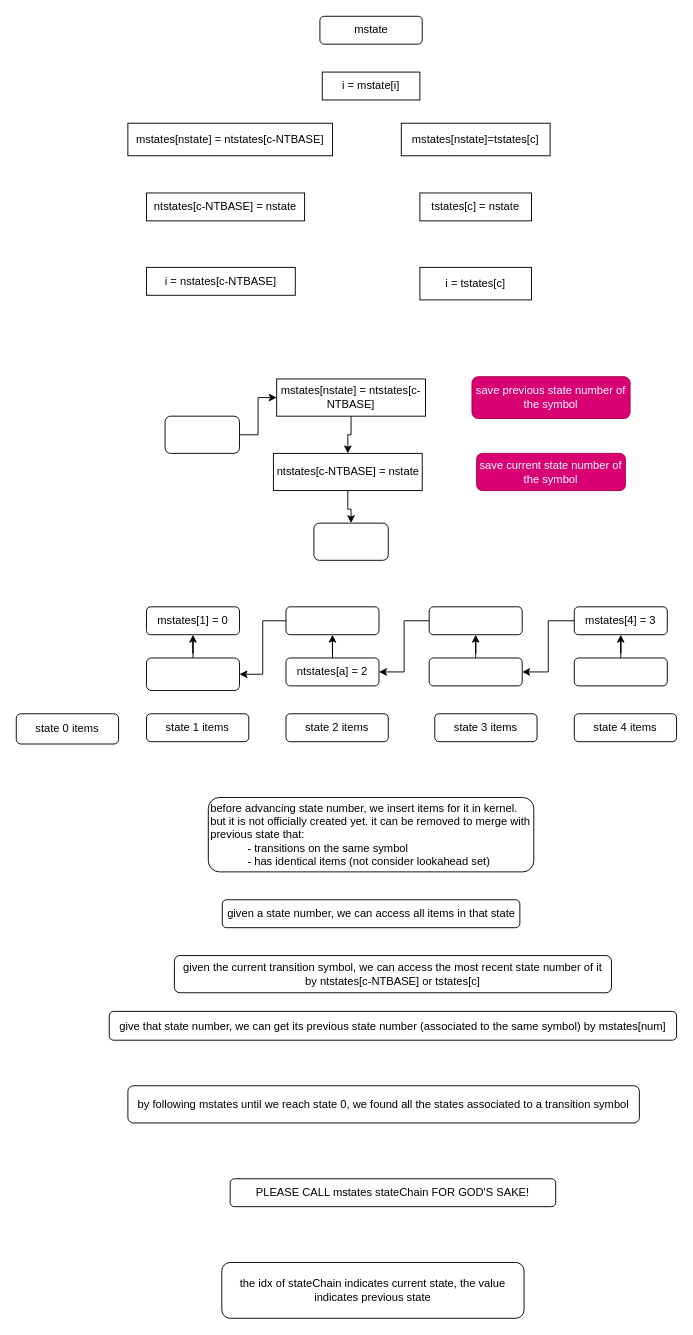
Image size: 693x1335. Some labels were removed from this diagram. Here are the shapes that lost their labels. From the top down, the centre of each, then its label:
[201,434]: nstate
[350,541]: nstate++
[332,620]: mstates[2] = 1
[475,620]: mstates[3] = 2
[192,674]: ntstates[a] = 1
[475,671]: ntstates[a] = 3
[620,671]: ntstates[a] = 4
